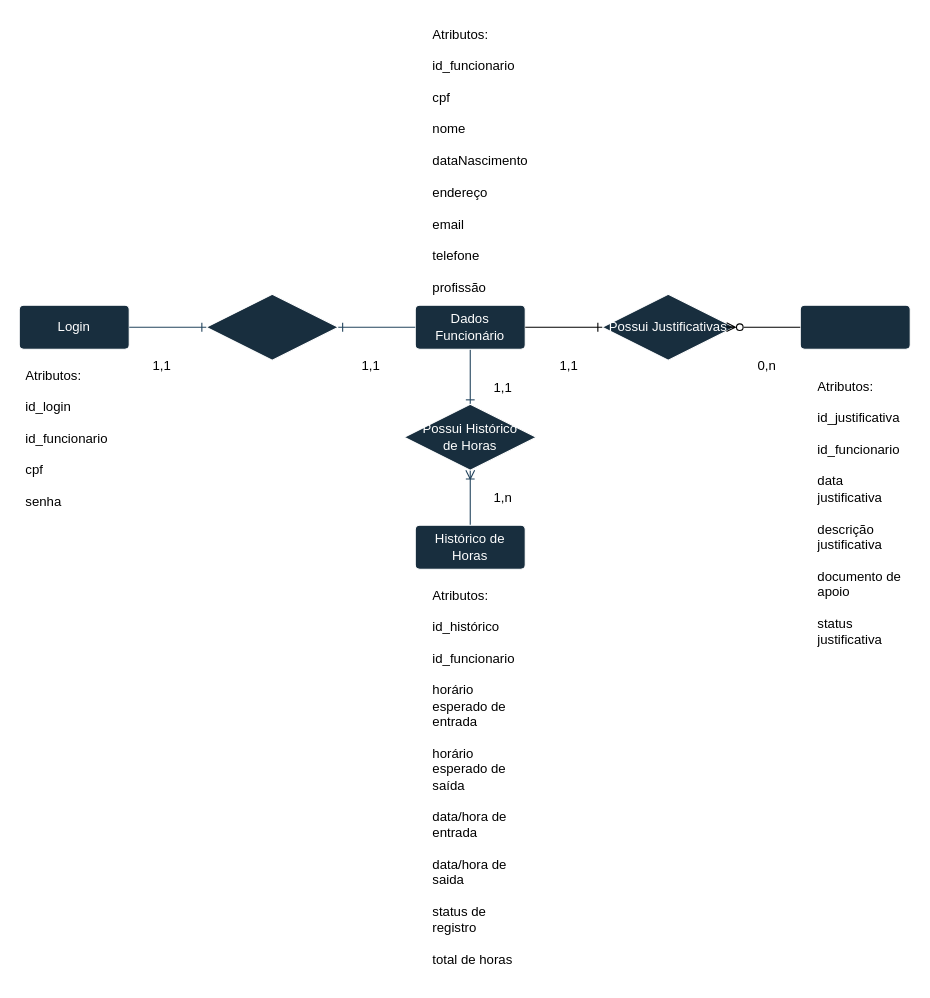
Some shapes in this 930 by 998 pixel diagram are drawn without their labels. Here are the shapes that lost their labels. From the top down, the centre of each, then its label:
At (x=271, y=326): "Possui".
At (x=854, y=326): "Histórico de Justificativas".
